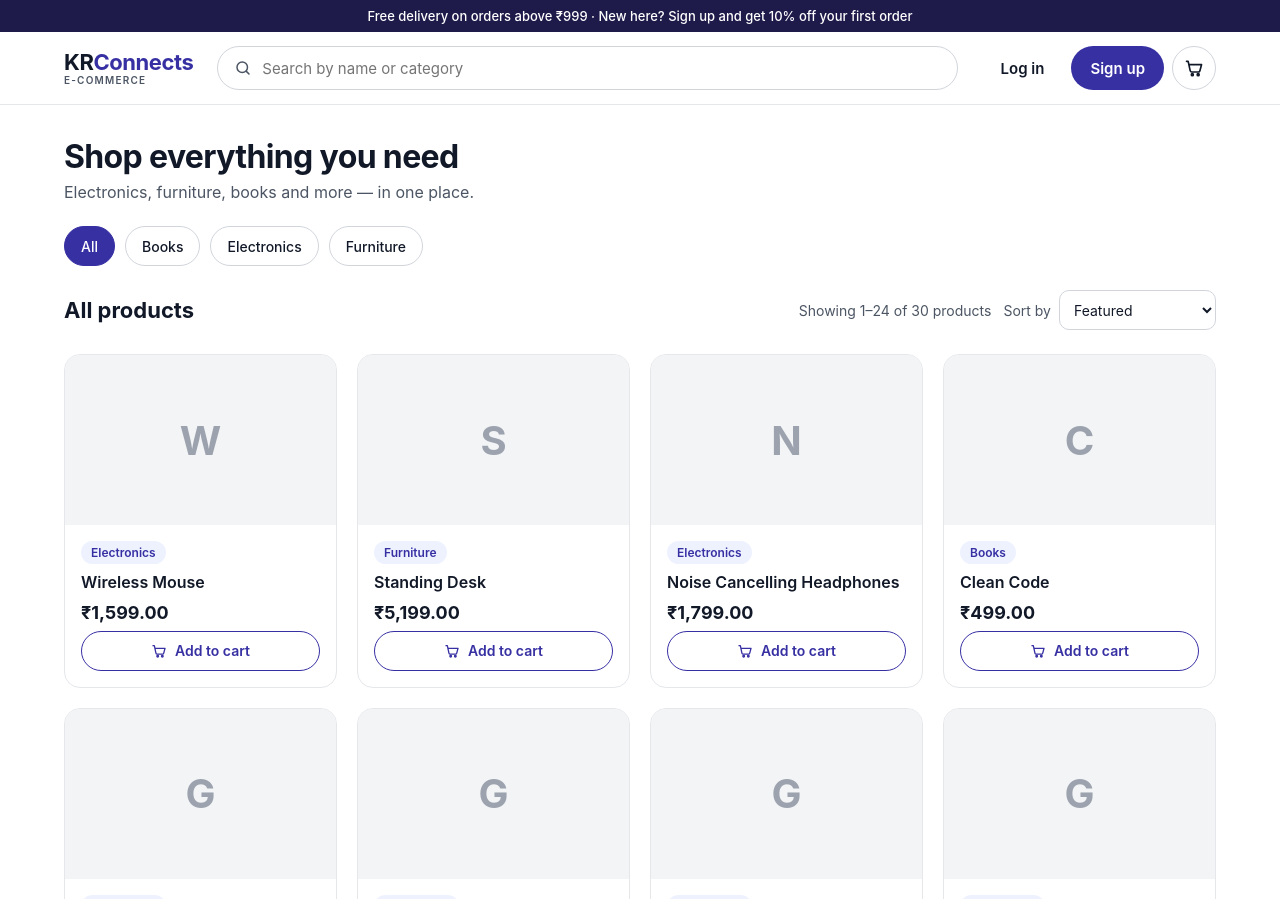
Test: Sign up and log in (Auth API) › shows an error when the username already exists
Check: the link "Wireless Mouse" is shown, box [81, 572, 205, 592]
Click the button "Sign up".
click(1118, 68)  # box [1071, 46, 1164, 90]
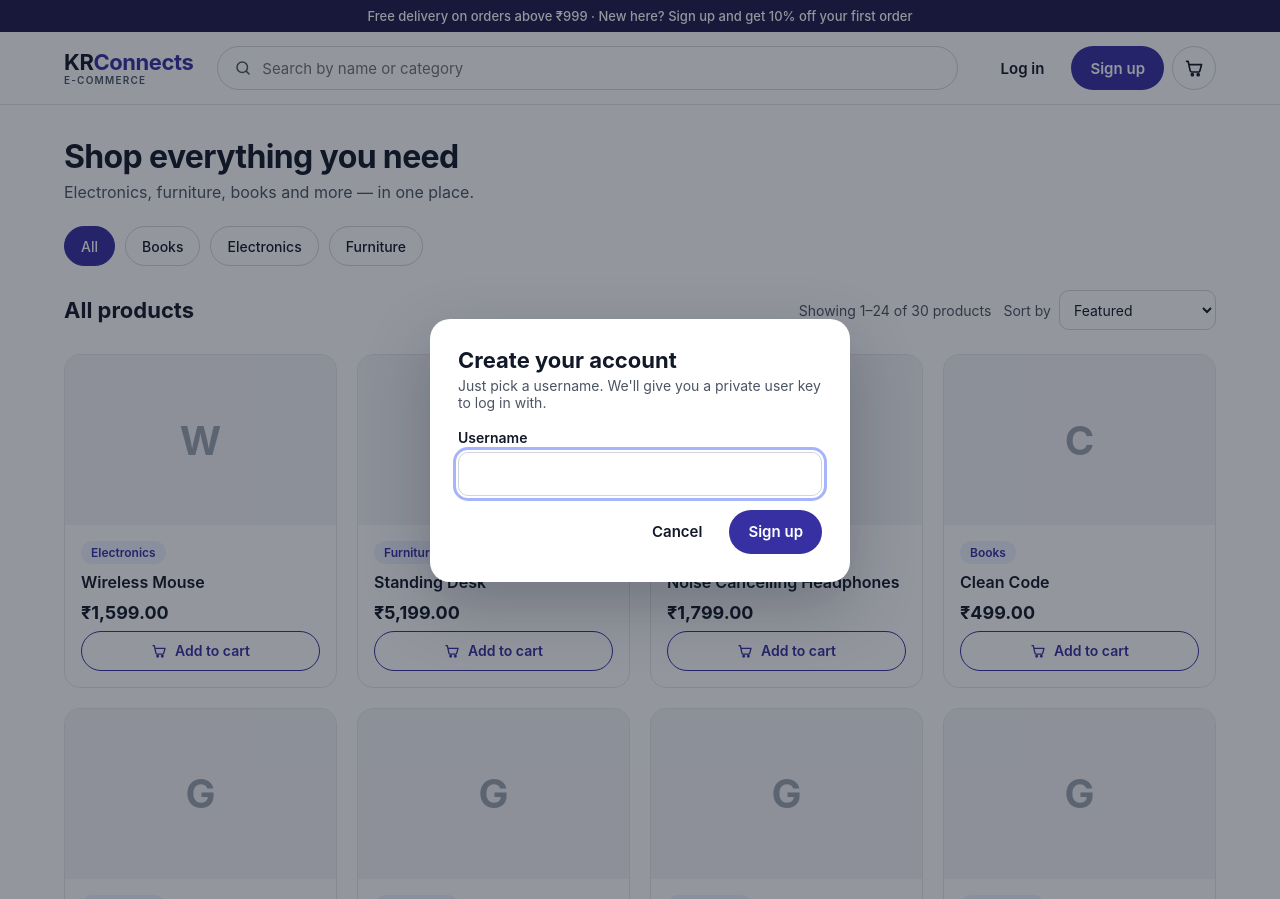
Type "taken" into the field labelled "Username".
click(640, 474); type("taken")  # box [458, 452, 822, 496]
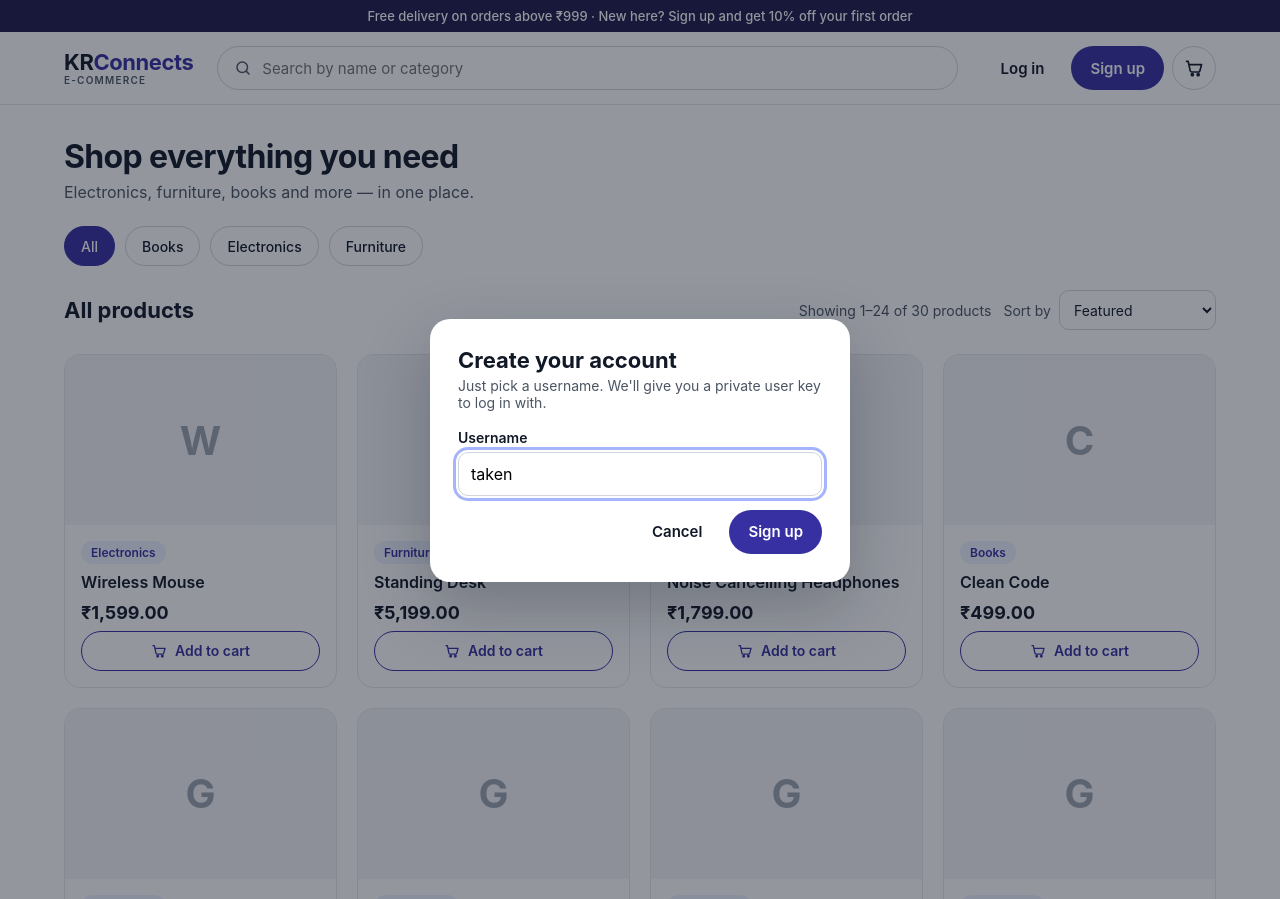
Click the button "Sign up".
click(776, 532)  # box [729, 510, 822, 554]
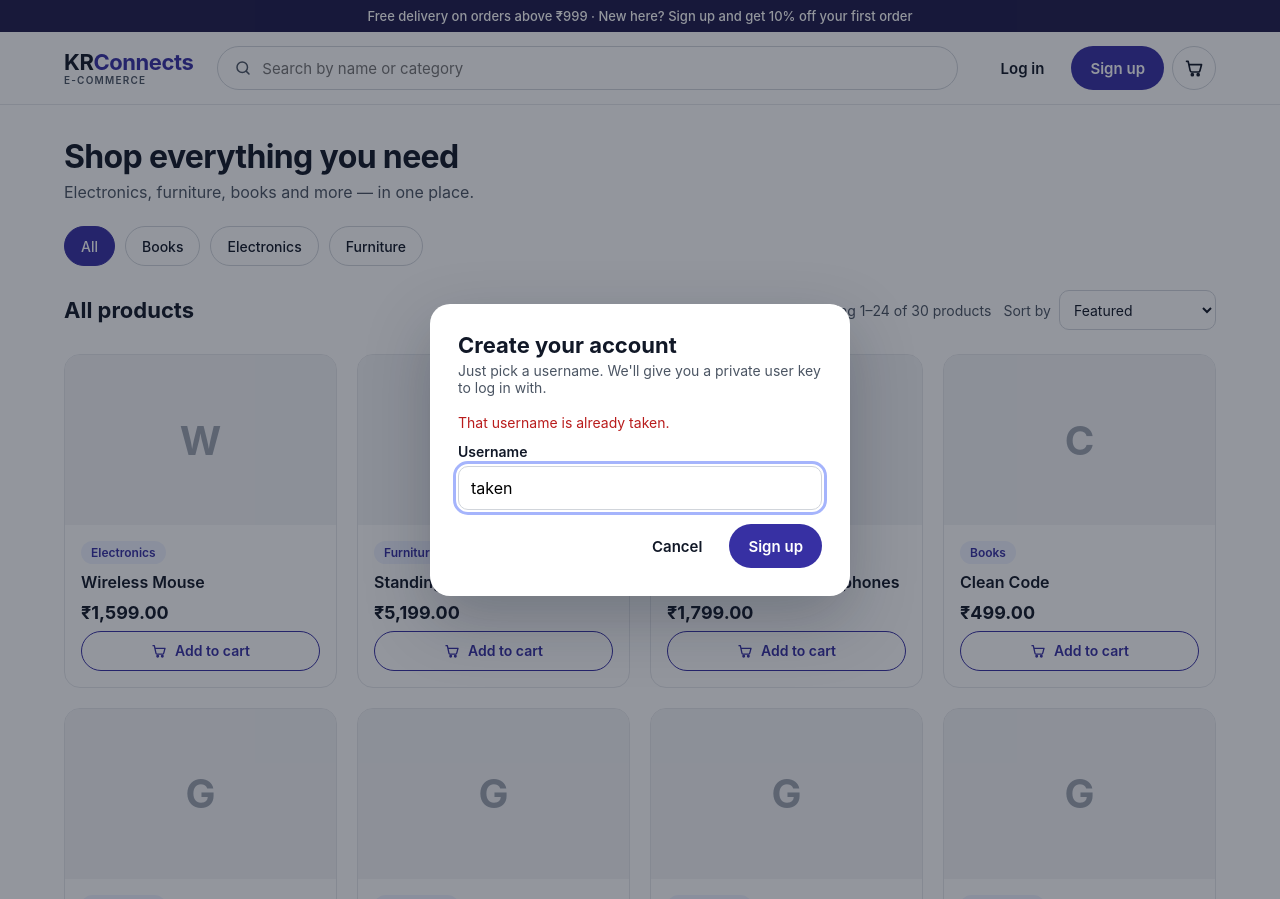
Check: the text "That username is already taken." is shown, box [458, 414, 670, 431]
